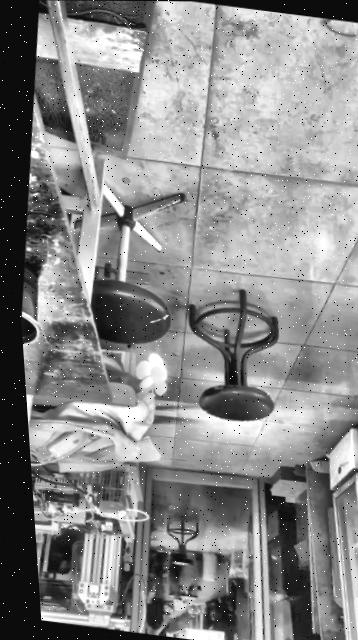pot: (17, 254, 48, 348)
